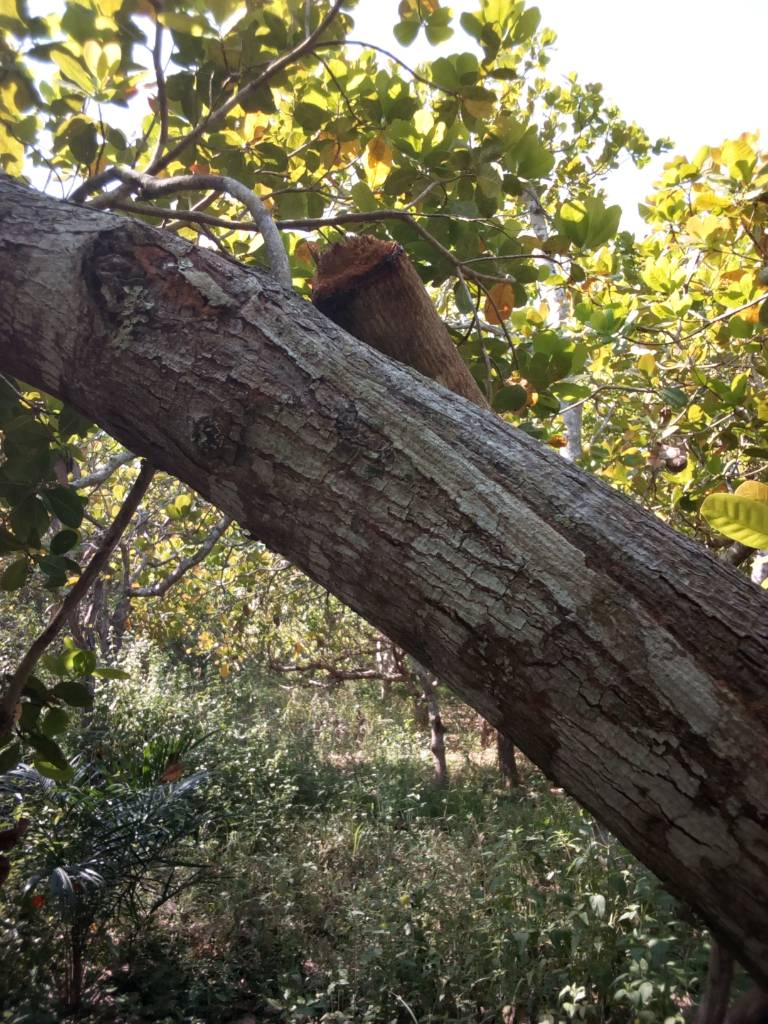Analepse trifasciata: (283, 216, 432, 322)
